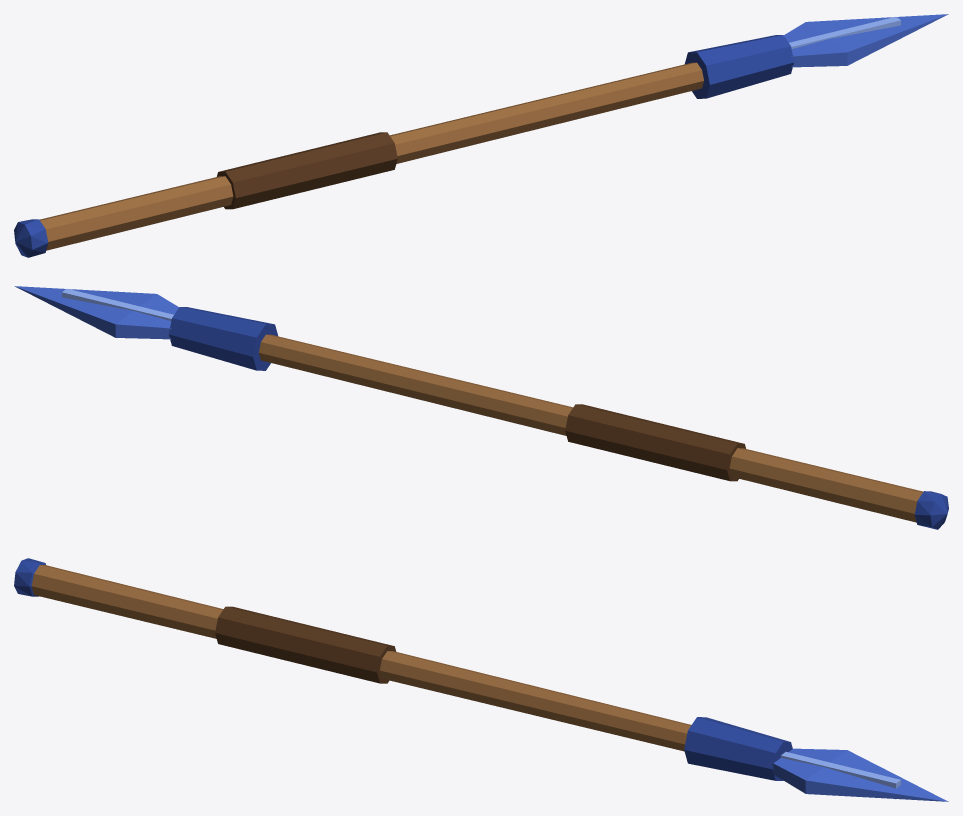
Rendered from drop_mithril_spear.glb.
The picture shows the model from 3 angles, top to bottom: view 1: azimuth 30°, elevation 25°; view 2: azimuth 150°, elevation 25°; view 3: azimuth 330°, elevation 25°; orthographic projection.
Visible parts, largest first — view 1: drop_mithril_spear; view 2: drop_mithril_spear; view 3: drop_mithril_spear.
Part boxes in pixels (bbox=[...]): drop_mithril_spear: bbox=[14, 14, 948, 257]; drop_mithril_spear: bbox=[14, 286, 948, 529]; drop_mithril_spear: bbox=[14, 558, 948, 801].
Size of the model in its own units: 0.843 by 0.0403 by 0.065.
